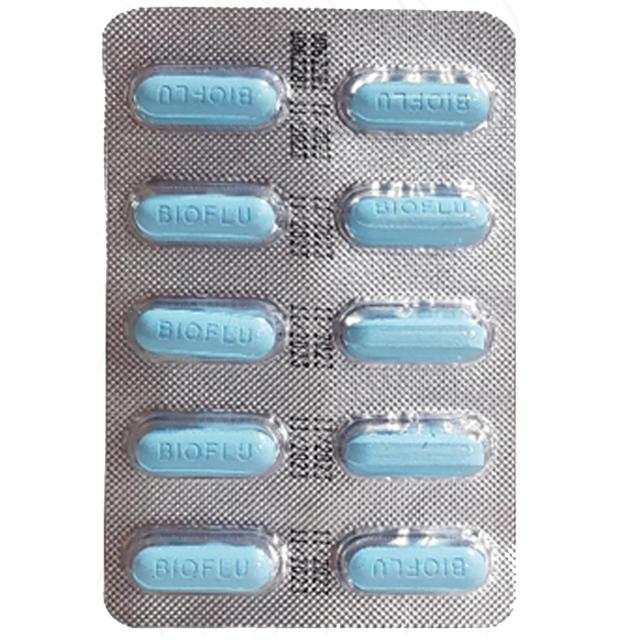blister: (99, 3, 522, 635)
